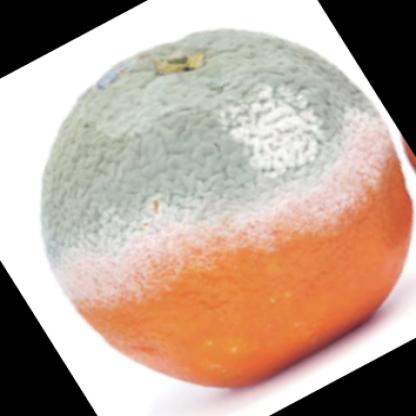rotten: (41, 29, 414, 389)
